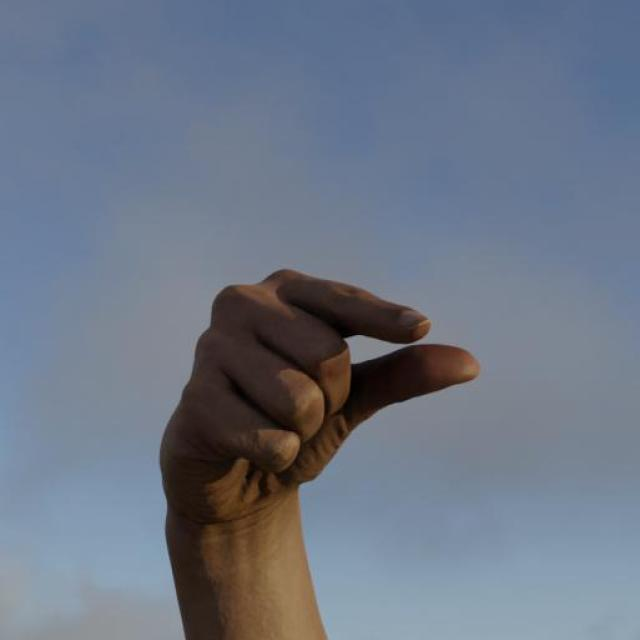G: (155, 262, 485, 533)
